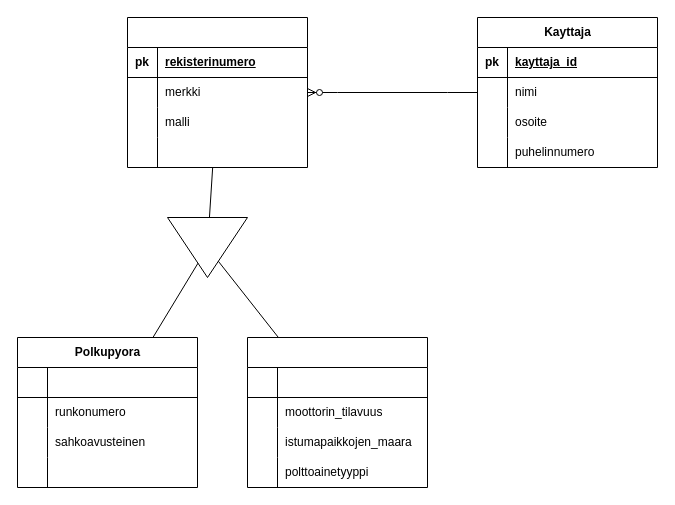
This 675x505 diagram has some shape labels left out. The box of each missing label's shape, as (x1, y1, x2, y2) in pixels:
Auto: (246, 336, 428, 488)
Kulkuneuvo: (126, 16, 308, 168)
